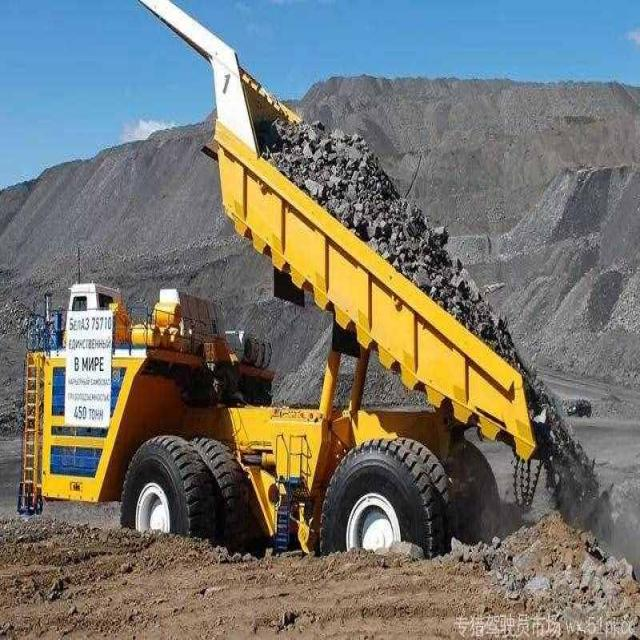dump_truck: (15, 4, 562, 567)
